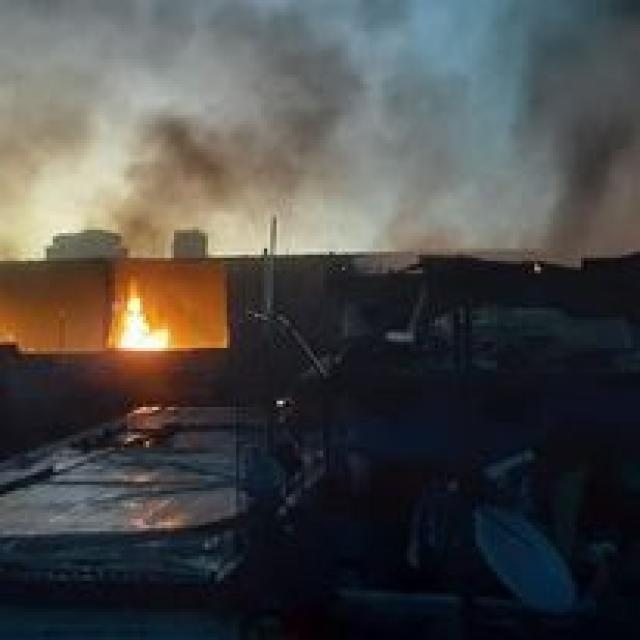Fire: (98, 256, 230, 356)
Smoke: (478, 1, 640, 257)
